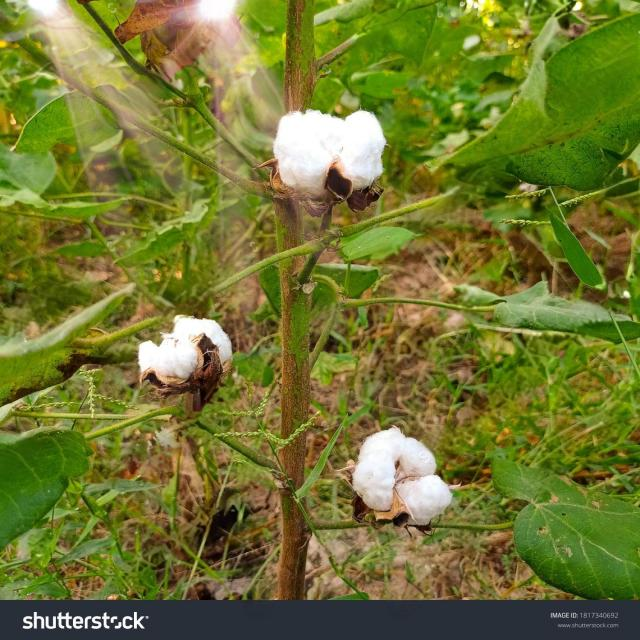Leaf: (264, 79, 399, 207), (335, 410, 461, 532), (134, 299, 245, 403)
